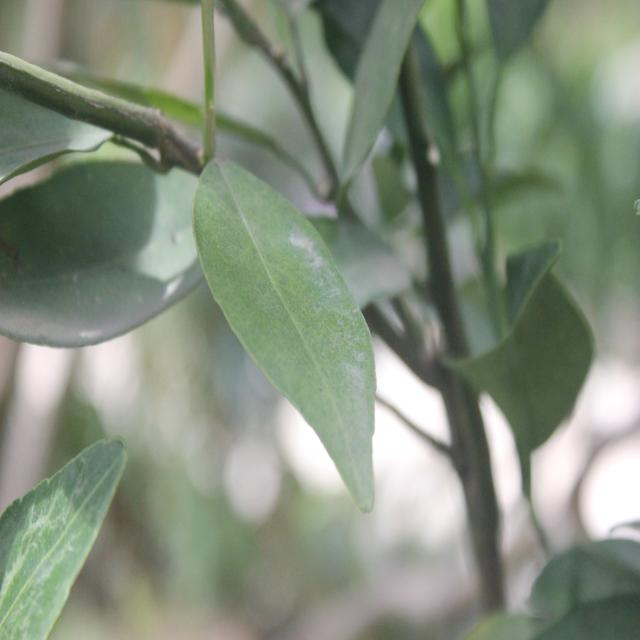blackspot: (206, 182, 379, 460)
